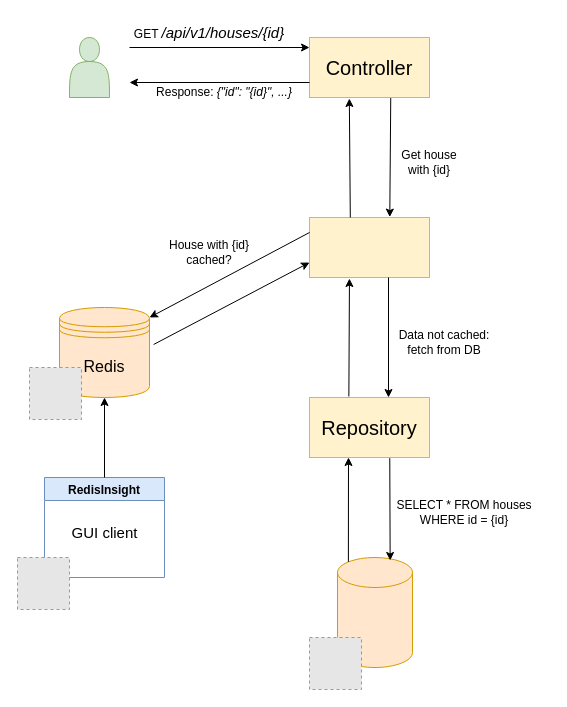
Some shapes in this 567 by 707 pixel diagram are drawn without their labels. Grey dashed boxes stand in for pictures. Here are the shapes that lost their labels. From the top down, the centre of each, then its label:
At [369,247]: "Service".
At [374,612]: "Postgres".
